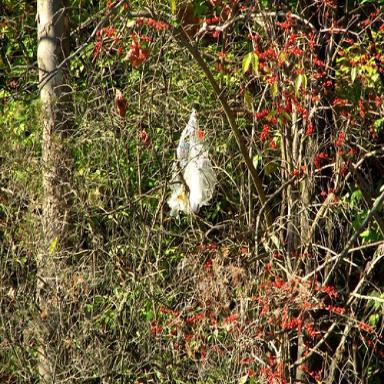plasticbag: (166, 107, 219, 217)
